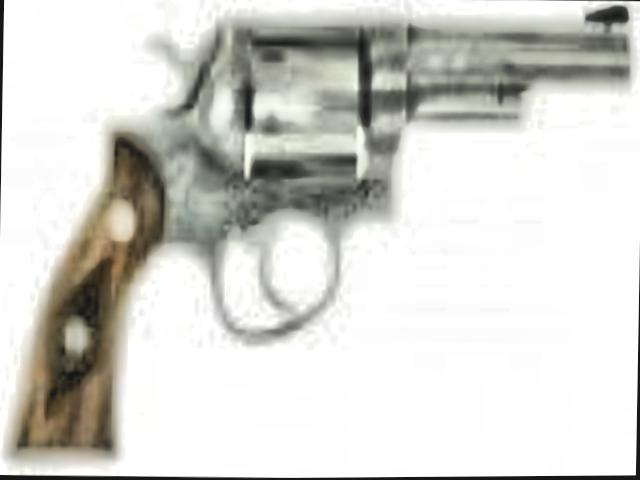pistol: (4, 0, 632, 469)
